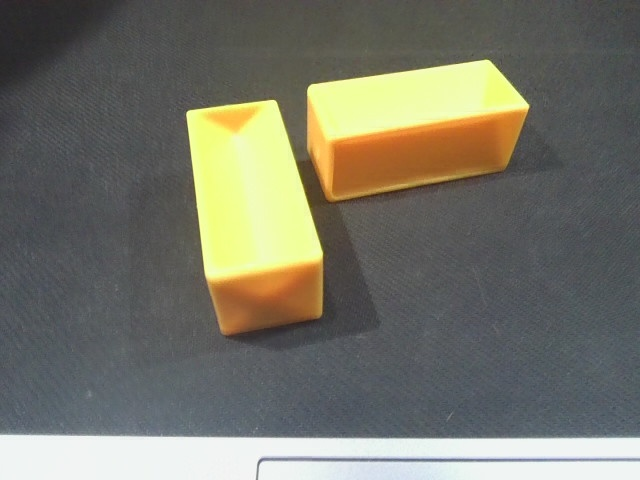YellowSample: (178, 97, 335, 340), (299, 56, 538, 202)
